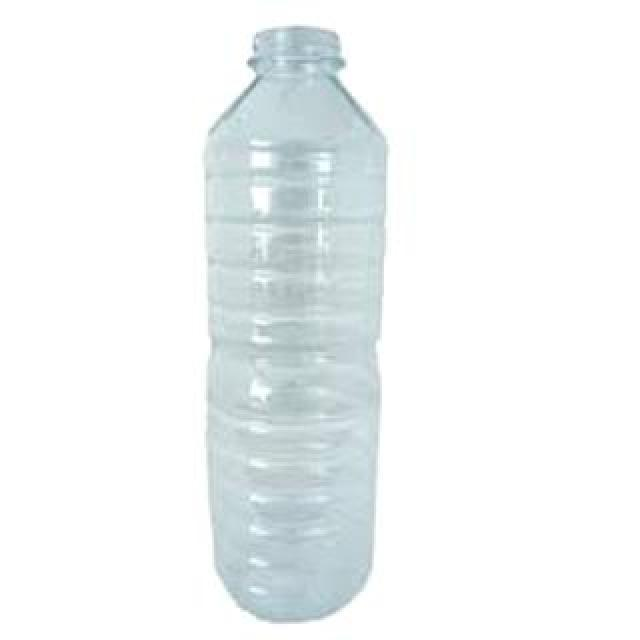Pet_Bottle: (204, 29, 390, 629)
